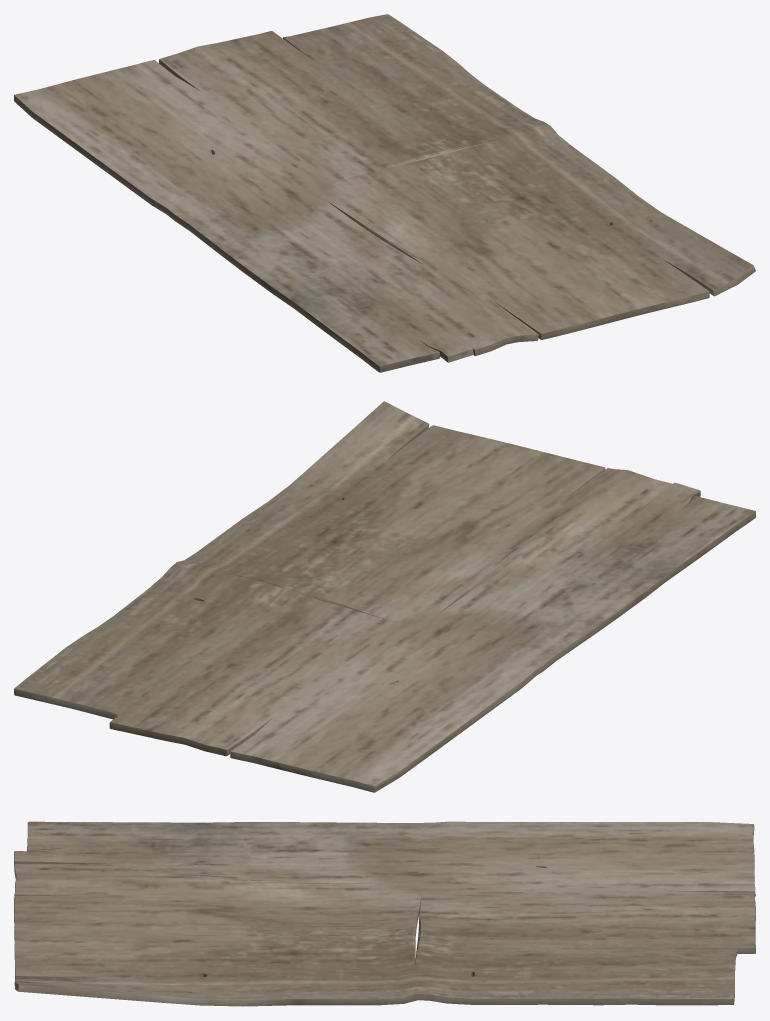
File: SM_PlywoodPanel_03.fbx
3 renders of one model, top to bottom at view 1: azimuth 30°, elevation 25°; view 2: azimuth 150°, elevation 25°; view 3: azimuth 270°, elevation 25°, orthographic. The views are drawn at different scales.
Parts seen in each view (by area): view 1: SM_PlywoodPanel_03; view 2: SM_PlywoodPanel_03; view 3: SM_PlywoodPanel_03.
Part boxes in pixels (bbox=[...]): SM_PlywoodPanel_03: bbox=[14, 14, 755, 372]; SM_PlywoodPanel_03: bbox=[14, 401, 755, 792]; SM_PlywoodPanel_03: bbox=[14, 821, 755, 1006].
Size of the model in its own units: 114 by 6.83 by 200.
Materials: 1 (1 with a texture image).
